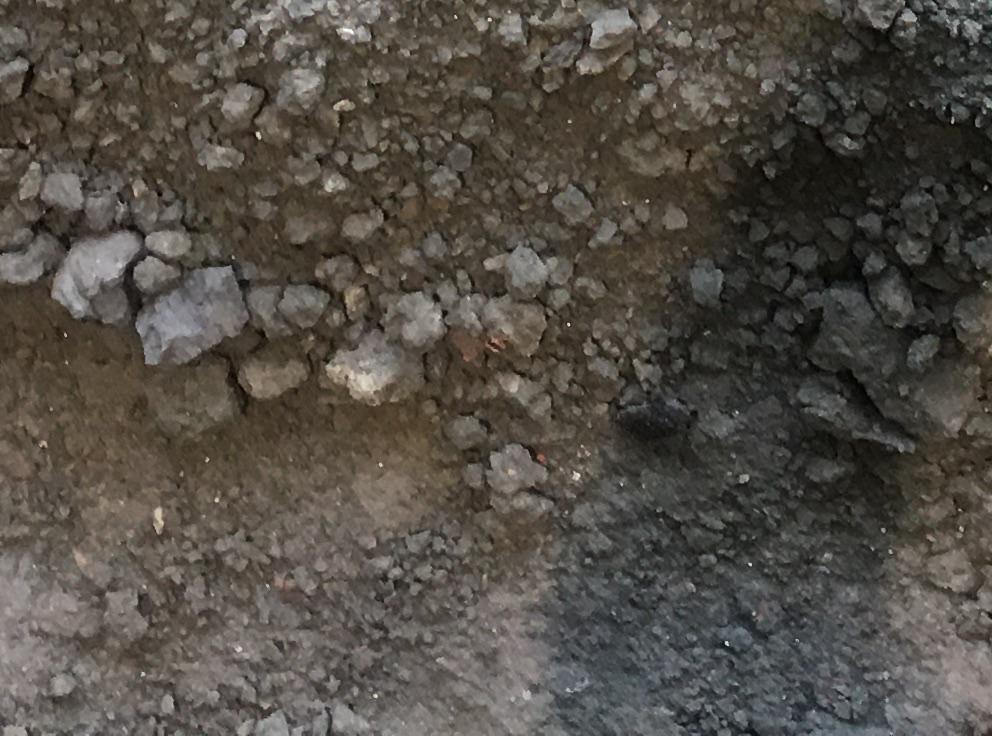block: (134, 268, 247, 364), (319, 337, 433, 416), (59, 226, 139, 326)
